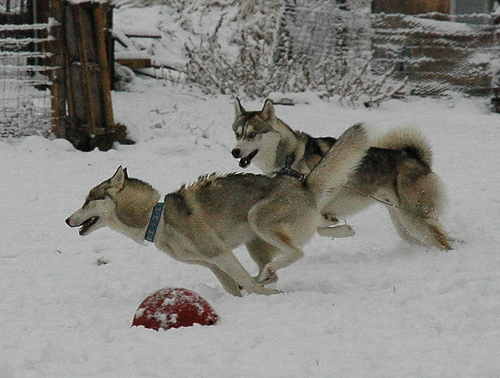dog: (61, 117, 376, 298), (226, 94, 454, 250)
